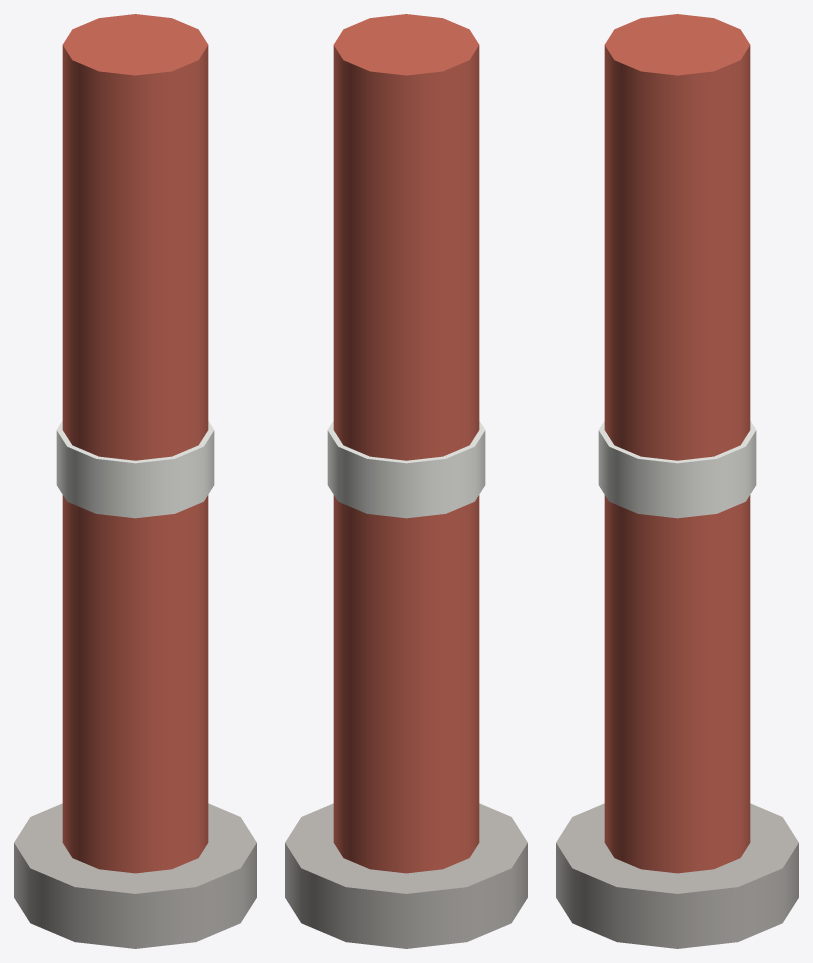
The model's file is bollard.glb.
The picture shows the model from 3 angles, left to right: view 1: azimuth 30°, elevation 25°; view 2: azimuth 150°, elevation 25°; view 3: azimuth 270°, elevation 25°; orthographic projection.
Parts seen in each view (by area): view 1: body, base, cap, stripe; view 2: body, base, cap, stripe; view 3: body, base, cap, stripe.
Part boxes in pixels (<box>): body: <box>62,73,208,873</box>; base: <box>14,803,256,948</box>; cap: <box>62,14,208,130</box>; stripe: <box>56,421,214,518</box>; body: <box>333,73,479,873</box>; base: <box>285,803,527,948</box>; cap: <box>333,14,479,130</box>; stripe: <box>327,421,485,518</box>; body: <box>604,73,750,873</box>; base: <box>556,803,798,948</box>; cap: <box>604,14,750,130</box>; stripe: <box>598,421,756,518</box>.
Size of the model in its own units: 0.2 by 0.775 by 0.2.
